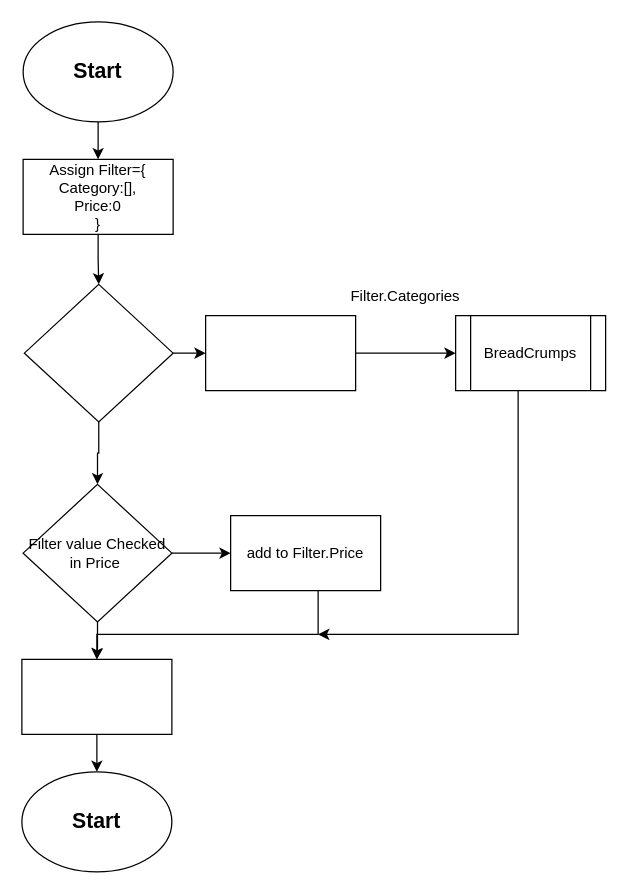
Some shapes in this 628 by 894 pixel diagram are drawn without their labels. The shapes that lost their labels are listed below. From the top down, each one's centre as x and y in pixels, then its label:
At point 98,352: "Filter value Checked in Categories".
At point 280,352: "add to Filter.Categories".
At point 96,696: "Send Filter Object to [ProductList]".
